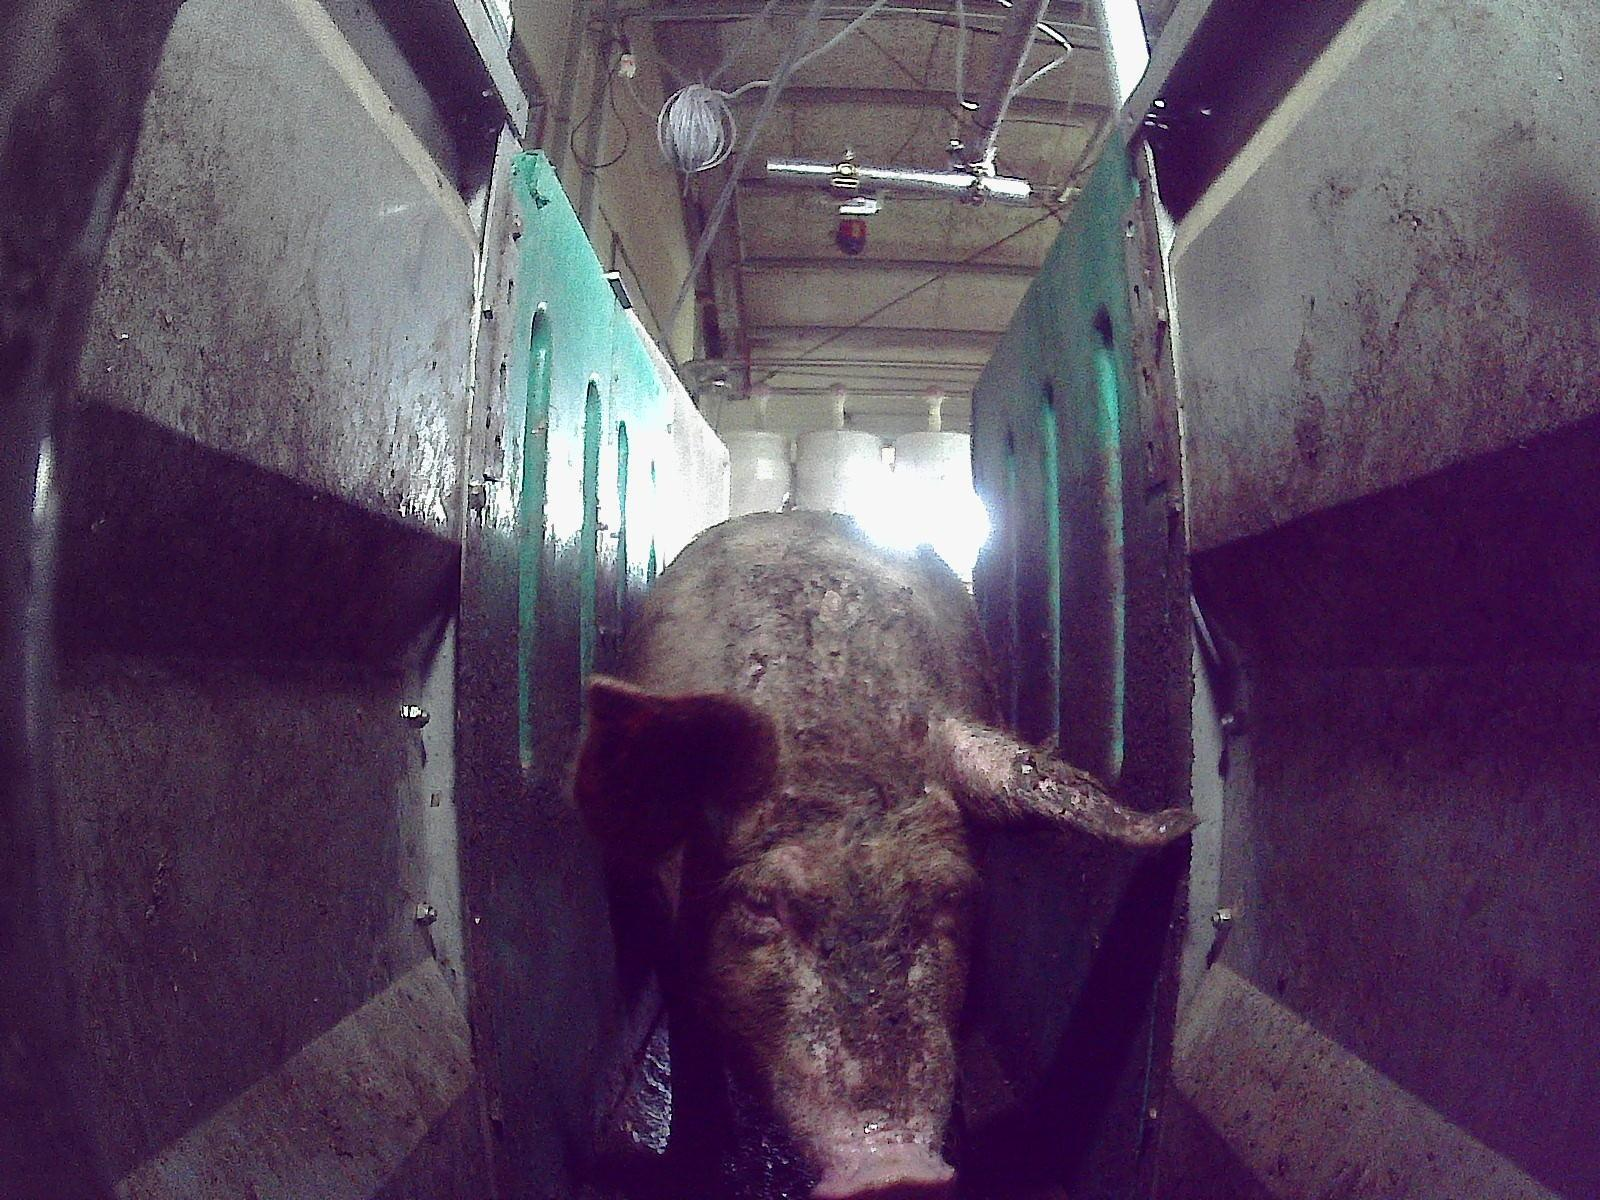Face: (684, 718, 979, 1199)
